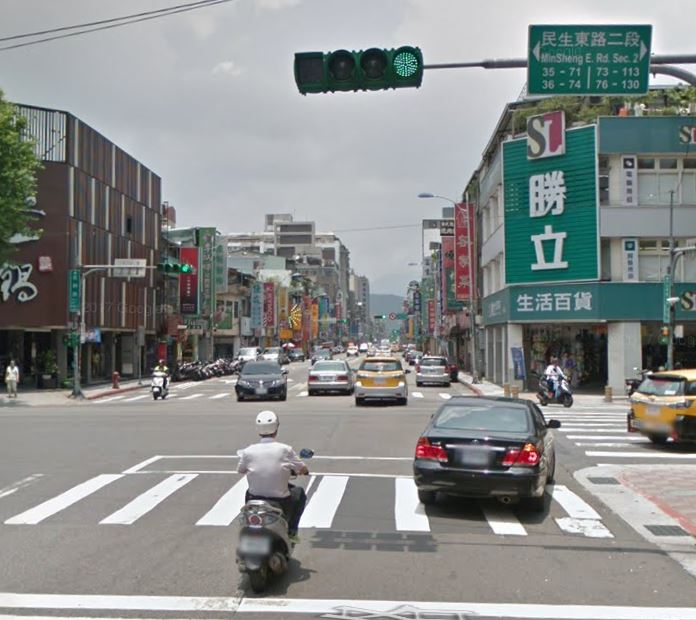Traffic_light_green: (291, 47, 426, 94), (158, 261, 196, 275)
car: (410, 397, 563, 513), (354, 352, 411, 409), (234, 355, 288, 402), (308, 355, 356, 397)
motorcycle: (232, 443, 320, 593)
